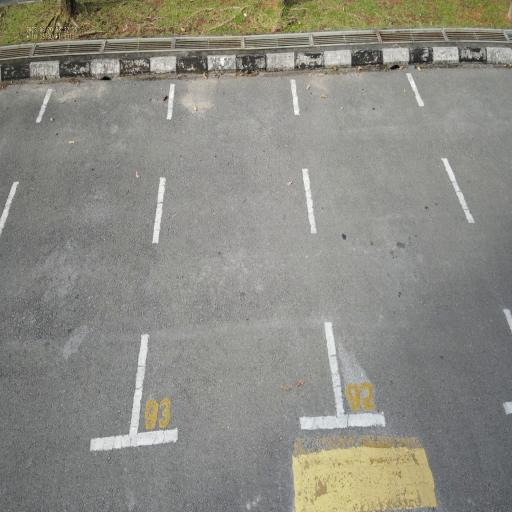Empty: (125, 56, 347, 457)
